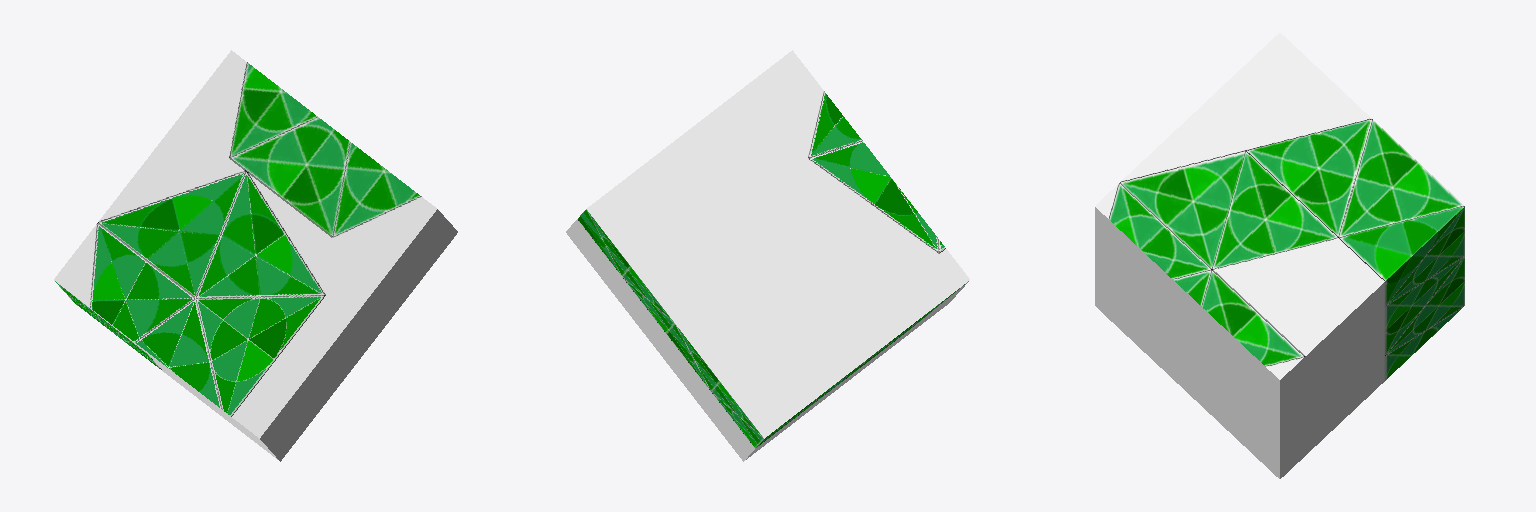
The picture shows the model from 3 angles: view 1: azimuth 30°, elevation 25°; view 2: azimuth 150°, elevation 25°; view 3: azimuth 270°, elevation 25°; orthographic projection.
Visible parts, largest first — view 1: Cube; view 2: Cube; view 3: Cube.
Boxes of the visible parts, box(x1,y1,x2,y2) form: Cube: box(54, 50, 457, 461); Cube: box(566, 50, 969, 461); Cube: box(1095, 33, 1464, 478).
Bounding box in the file's own units: 2.54 × 2.54 × 2.02.
1 materials, 1 textured.